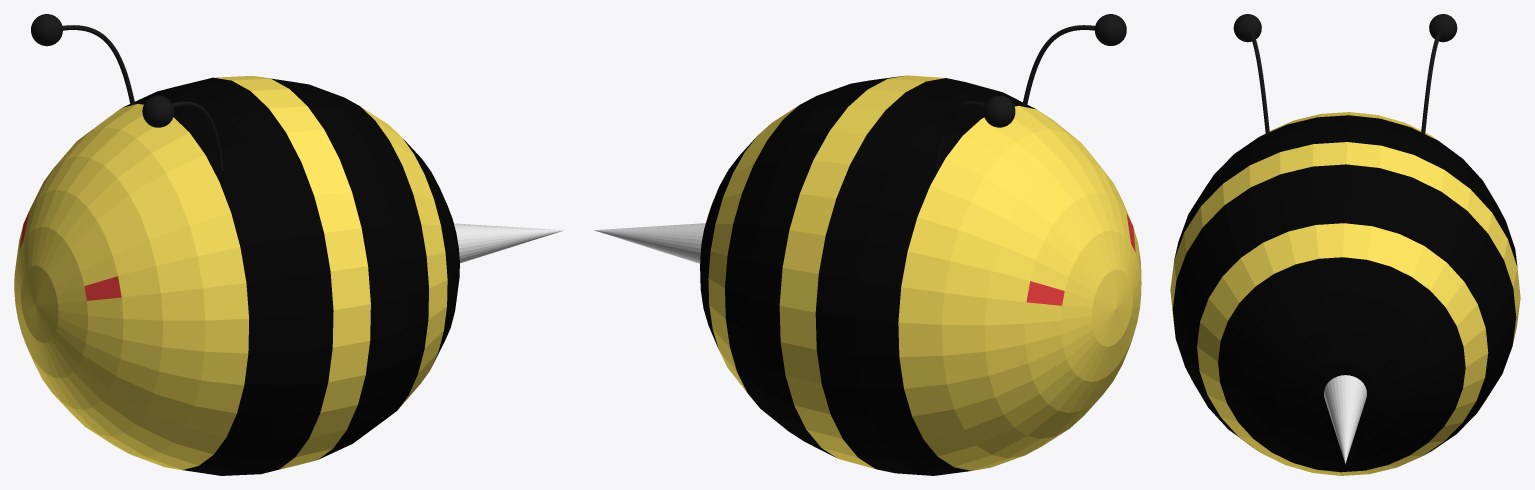
The model's file is bee.glb.
3 renders of one model, left to right at view 1: azimuth 30°, elevation 25°; view 2: azimuth 150°, elevation 25°; view 3: azimuth 270°, elevation 25°, orthographic. The views are drawn at different scales.
Parts seen in each view (by area): view 1: bee; view 2: bee; view 3: bee.
Boxes of the visible parts, bbox=[...] form: bee: bbox=[14, 14, 563, 475]; bee: bbox=[594, 14, 1141, 475]; bee: bbox=[1170, 14, 1520, 475].
Size of the model in its own units: 1.73 by 1.36 by 1.14.
